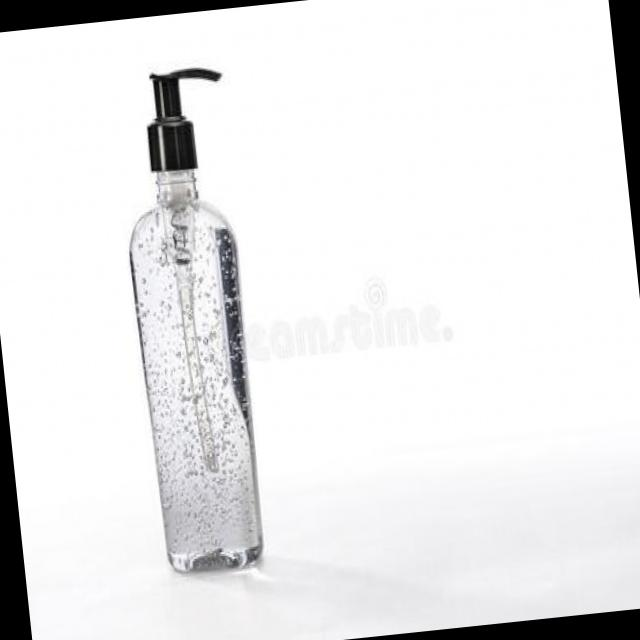sanitizer: (102, 52, 284, 580)
